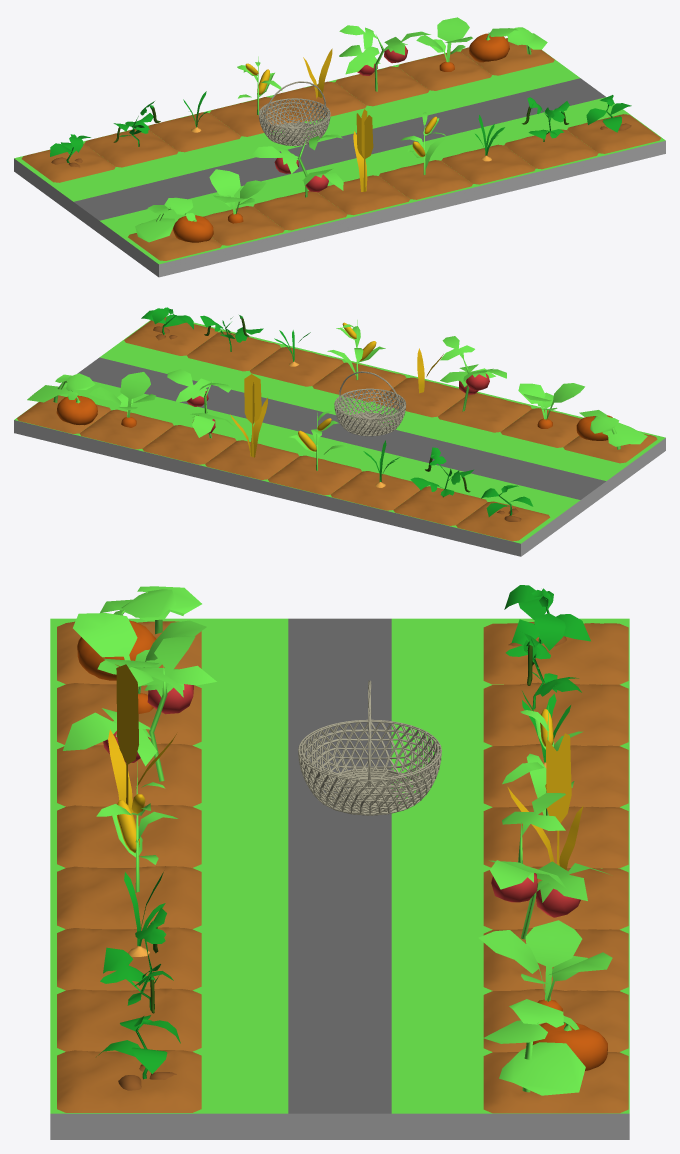
The model's file is овощи 01.glb.
The picture shows the model from 3 angles, top to bottom: view 1: azimuth 30°, elevation 25°; view 2: azimuth 150°, elevation 25°; view 3: azimuth 270°, elevation 25°; orthographic projection. The views are drawn at different scales.
Parts seen in each view (by area): view 1: Box001, Bed_low, Bed_low001, GeoSphere001, Pumpkin_single, Tomato_single001, Pumpkin_single001, Tomato_single, Carrot_single, Carrot_single001, Wheat_single, Potato_single (+7 smaller); view 2: Box001, Bed_low001, Bed_low, GeoSphere001, Pumpkin_single001, Pumpkin_single, Tomato_single001, Tomato_single, Carrot_single001, Wheat_single001, Carrot_single, Peas._single001 (+6 smaller); view 3: Box001, Bed_low, Bed_low001, GeoSphere001, Pumpkin_single001, Tomato_single, Tomato_single001, Carrot_single001, Carrot_single, Pumpkin_single, Wheat_single, Wheat_single001 (+8 smaller).
Boxes of the visible parts, left/top/right/bottom form: Box001: left=14, top=38, right=665, bottom=277; Bed_low: left=128, top=114, right=660, bottom=260; Bed_low001: left=21, top=38, right=554, bottom=182; GeoSphere001: left=259, top=98, right=330, bottom=145; Pumpkin_single: left=135, top=197, right=213, bottom=242; Tomato_single001: left=339, top=25, right=430, bottom=91; Pumpkin_single001: left=469, top=27, right=547, bottom=62; Tomato_single: left=251, top=134, right=343, bottom=197; Carrot_single: left=209, top=169, right=266, bottom=223; Carrot_single001: left=416, top=17, right=472, bottom=71; Wheat_single: left=353, top=109, right=373, bottom=191; Potato_single: left=586, top=95, right=631, bottom=132; Box001: left=14, top=316, right=665, bottom=556; Bed_low001: left=17, top=395, right=550, bottom=541; Bed_low: left=124, top=317, right=657, bottom=463; GeoSphere001: left=334, top=388, right=406, bottom=436; Pumpkin_single001: left=27, top=373, right=97, bottom=425; Pumpkin_single: left=576, top=410, right=647, bottom=449; Tomato_single001: left=167, top=369, right=234, bottom=438; Tomato_single: left=440, top=336, right=506, bottom=411; Carrot_single001: left=89, top=372, right=155, bottom=427; Wheat_single001: left=230, top=374, right=267, bottom=457; Carrot_single: left=518, top=383, right=584, bottom=428; Peas._single001: left=410, top=447, right=473, bottom=497; Box001: left=50, top=618, right=629, bottom=1139; Bed_low: left=57, top=621, right=201, bottom=1112; Bed_low001: left=483, top=622, right=628, bottom=1113; GeoSphere001: left=298, top=719, right=441, bottom=814; Pumpkin_single001: left=483, top=999, right=607, bottom=1095; Tomato_single: left=63, top=635, right=216, bottom=781; Tomato_single001: left=489, top=793, right=609, bottom=939; Carrot_single001: left=478, top=920, right=612, bottom=1011; Carrot_single: left=73, top=613, right=206, bottom=713; Pumpkin_single: left=77, top=586, right=201, bottom=680; Wheat_single: left=108, top=664, right=176, bottom=812; Wheat_single001: left=507, top=733, right=583, bottom=869.
Size of the model in its own units: 8.11 by 1.7 by 4.
